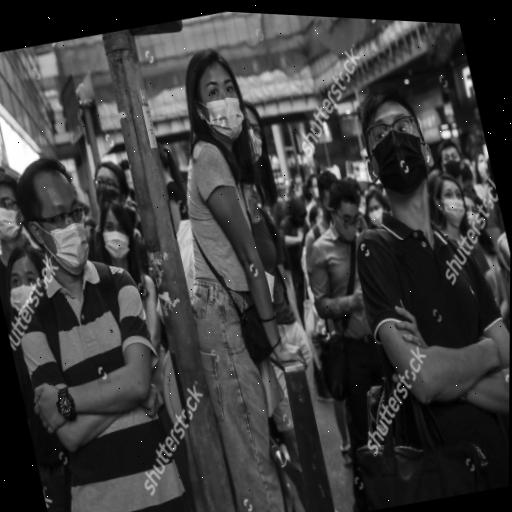mask: (11, 146, 99, 290), (353, 83, 446, 215), (177, 41, 257, 158), (0, 245, 57, 323), (92, 195, 141, 267), (326, 178, 369, 245), (88, 155, 131, 214), (0, 168, 30, 249), (429, 168, 469, 228), (452, 186, 491, 237), (359, 186, 391, 231), (433, 137, 464, 182)
